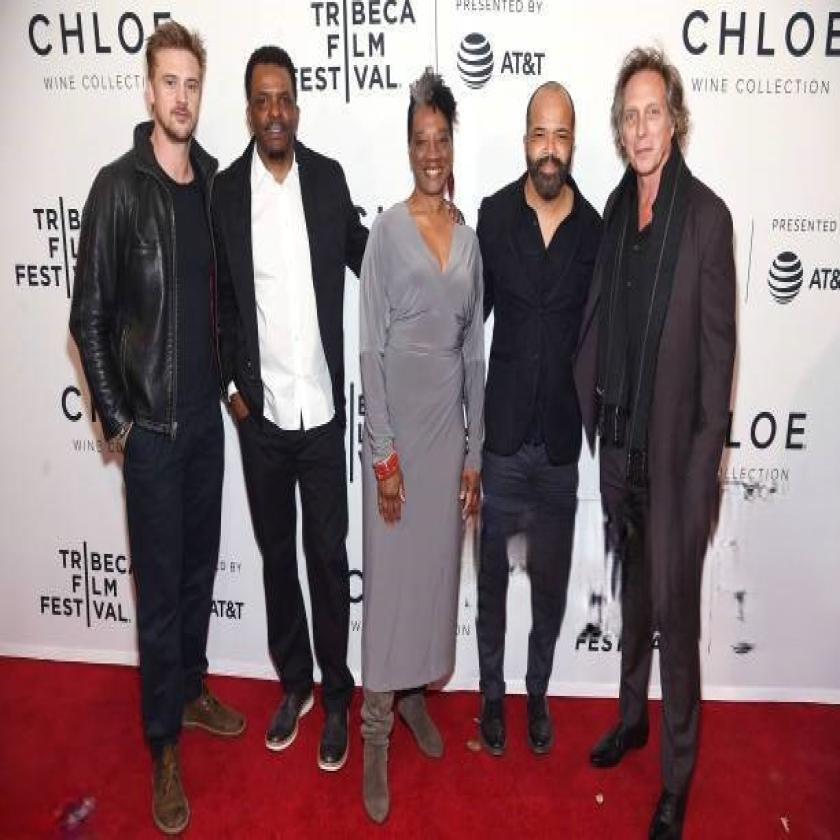Sin_casco: (612, 34, 695, 192), (131, 7, 214, 150), (397, 61, 463, 214), (241, 32, 311, 170), (517, 67, 583, 199)
